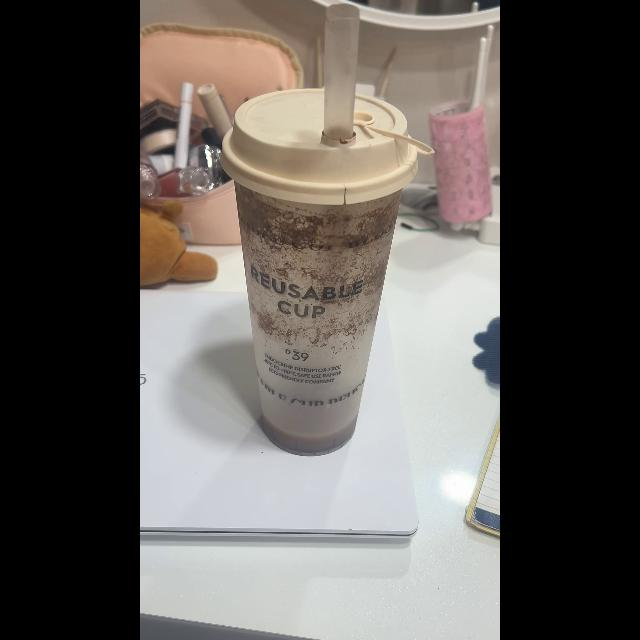dirty: (235, 182, 397, 456)
